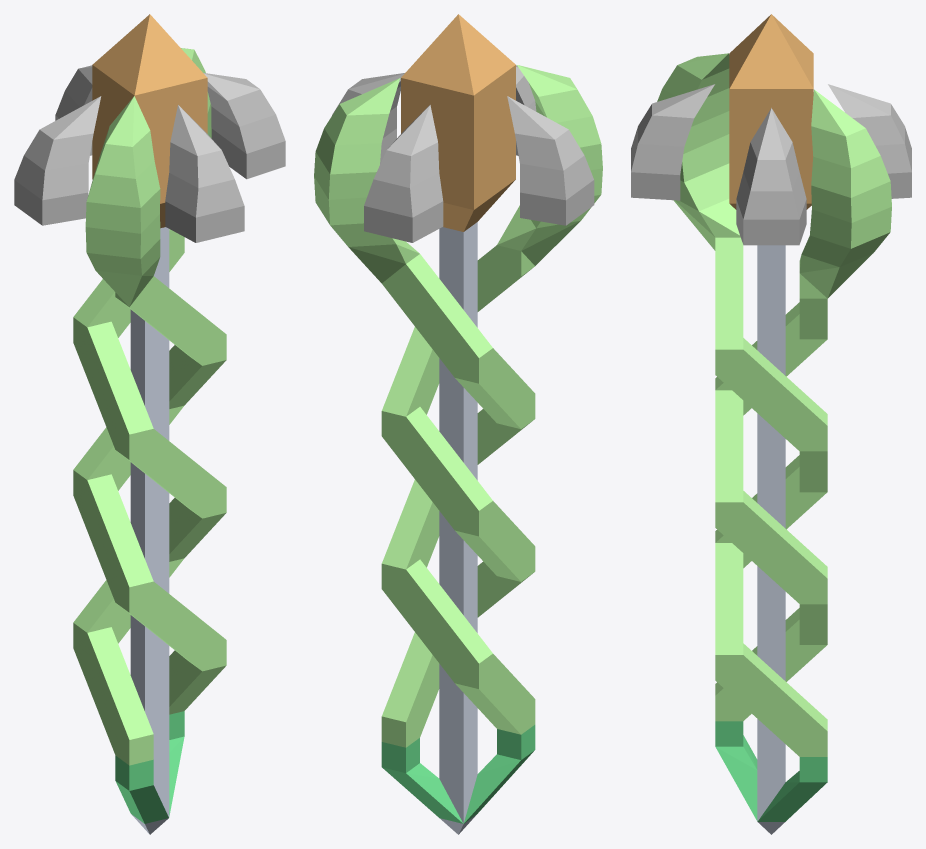
Rendered from Wand_wip.obj.
3 views of the same model, side by side, from view 1: azimuth 30°, elevation 25°; view 2: azimuth 150°, elevation 25°; view 3: azimuth 270°, elevation 25° (orthographic).
Parts seen in each view (by area): view 1: 2, 1, South-West, size, Gem, South, West, East, North-East, North; view 2: 2, Gem, 1, size, North-East, South-West, North, West, East, South; view 3: 1, North-East, South-West, size, Gem, 2, East, South, North.
Part boxes in pixels (x1,y1,x2,y2): 2: (73,230,184,765); 1: (115,276,226,714); South-West: (85,96,168,823); size: (130,227,169,834); Gem: (92,14,207,228); South: (165,105,244,242); West: (14,96,101,225); East: (203,73,285,179); North-East: (169,48,211,815); North: (55,65,92,155); 2: (381,254,535,734); Gem: (401,14,515,231); 1: (381,245,534,747); size: (439,222,477,834); North-East: (314,78,463,823); South-West: (463,65,602,823); North: (364,105,443,242); West: (507,96,594,225); East: (332,73,404,164); South: (516,65,536,155); 1: (715,237,827,756); North-East: (757,89,891,821); South-West: (657,53,757,820); size: (757,245,785,834); Gem: (729,14,813,209); 2: (715,273,827,721); East: (736,108,806,245); South: (631,84,714,200); North: (828,84,911,198).
Bounding box in the file's own units: 0.625 × 2.02 × 0.625.
Materials: 2 (1 with a texture image).
